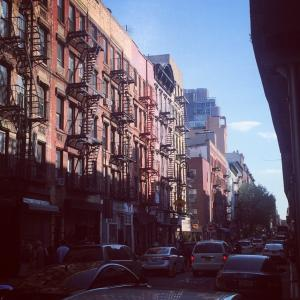Vehicle-registration-plate: (205, 258, 214, 262)
